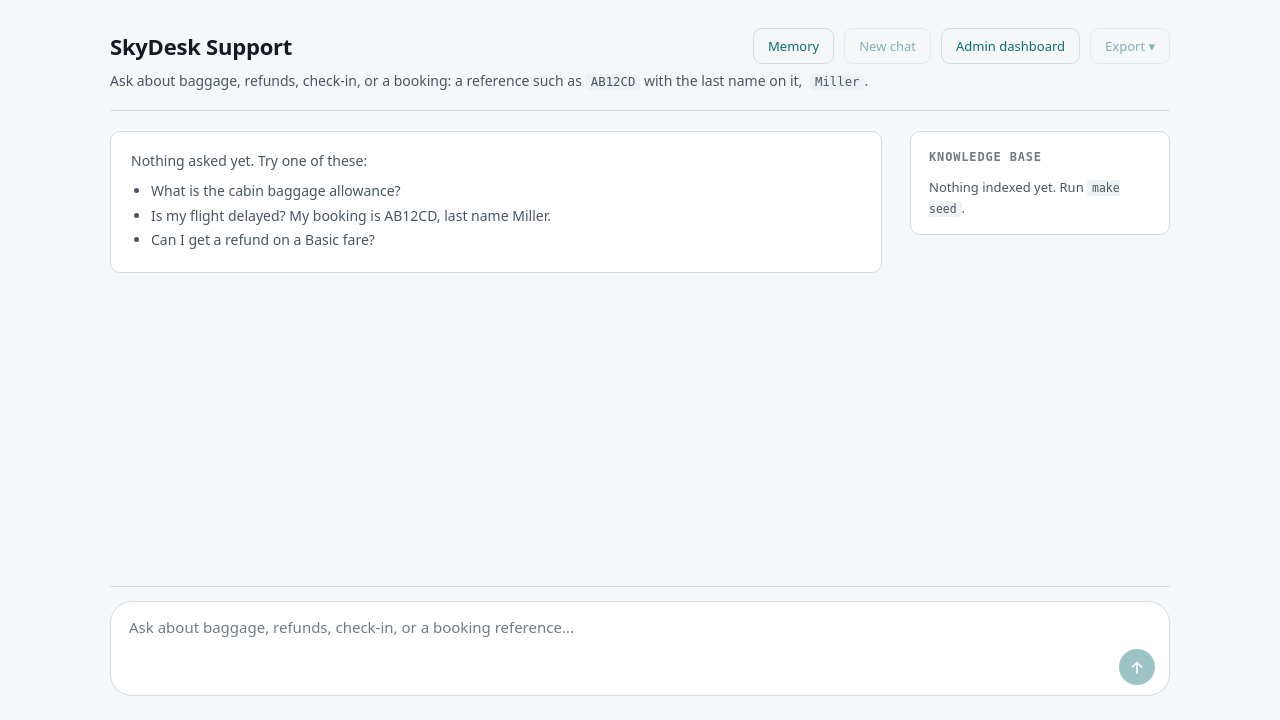
Test: when the engine is not ready › explains a 501 and names the variable to set
Expected: the text "Nothing indexed yet. Run make seed." is shown, [929,177,1151,218]
Replace the text in the text box named "Your message" with "Is my flight delayed?" at coordinates (640, 627), box [125,614,1155,641]
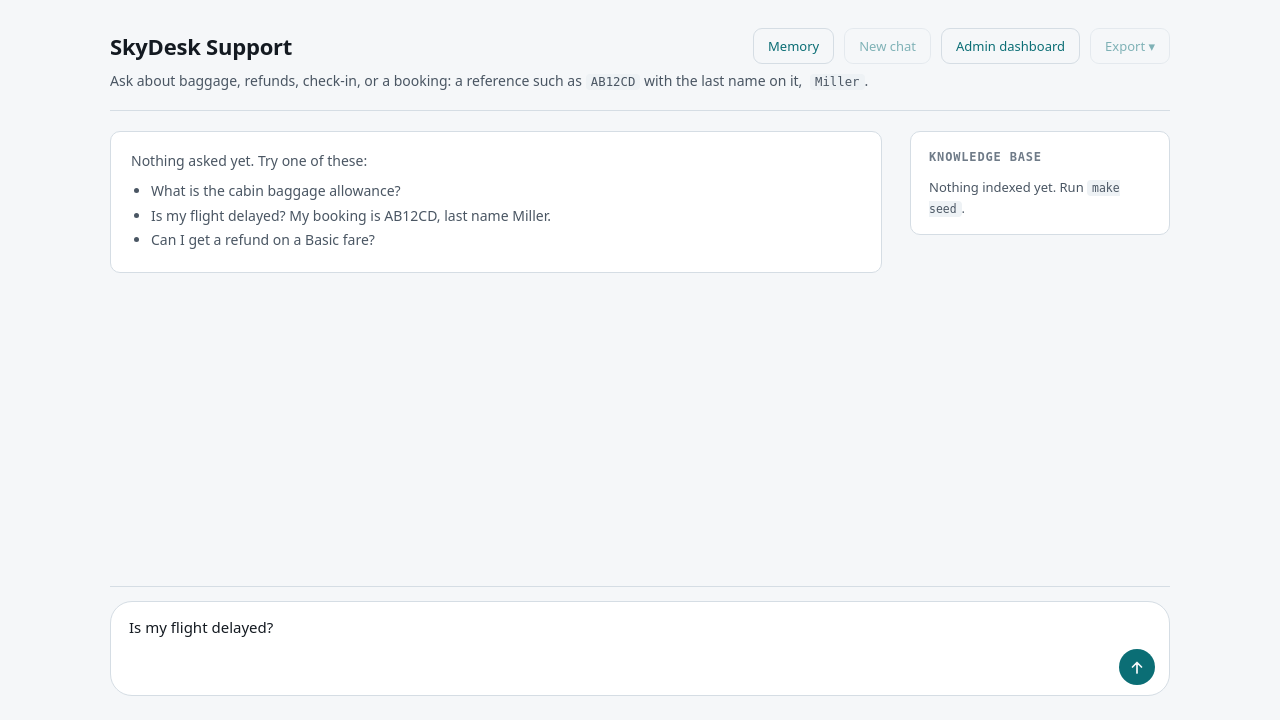
Click the button named "Send" at coordinates (1137, 667), box [1119,649,1155,685]
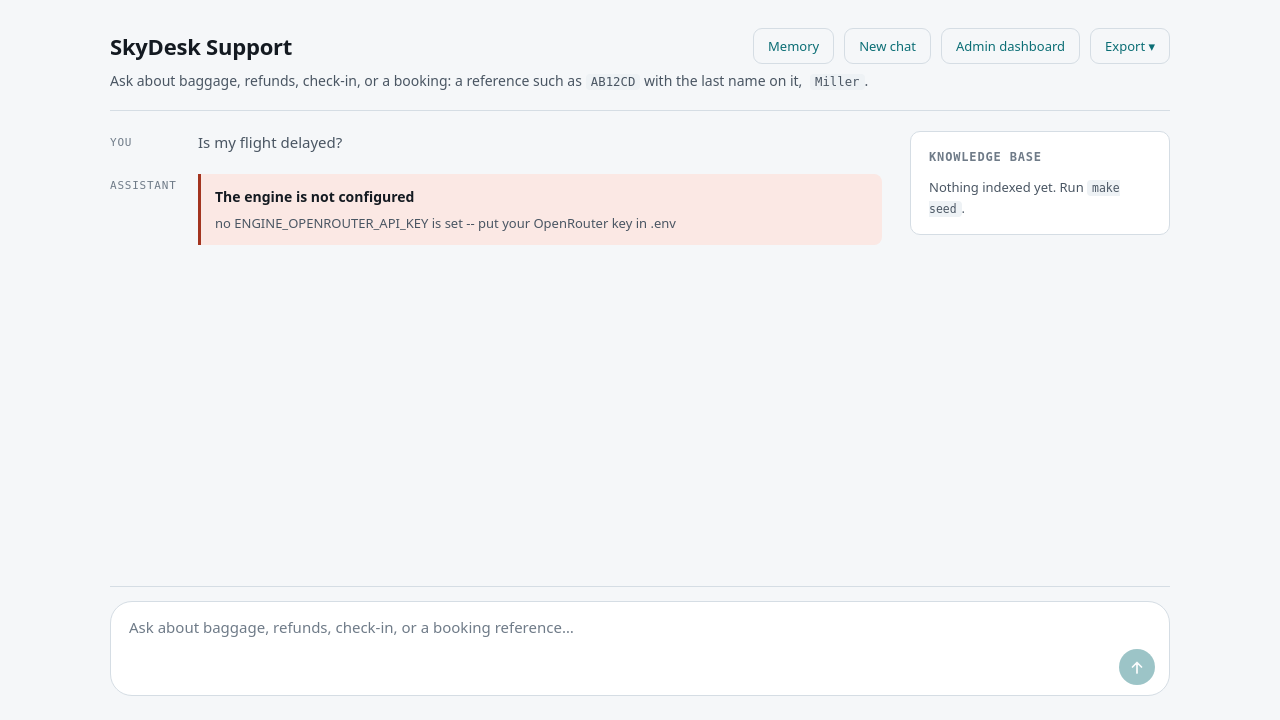
Now the text "The engine is not configured" is shown, box [215,188,414,206]
Now the text "ENGINE_OPENROUTER_API_KEY" is shown, box [215,214,676,232]
